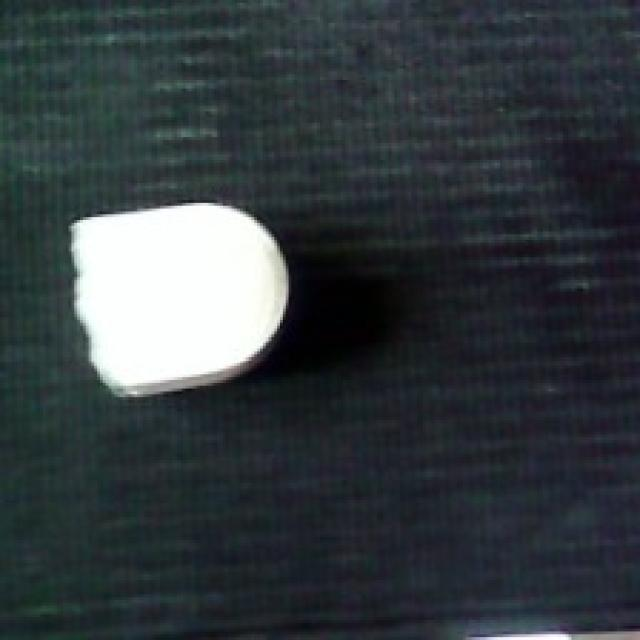defected: (63, 197, 294, 400)
